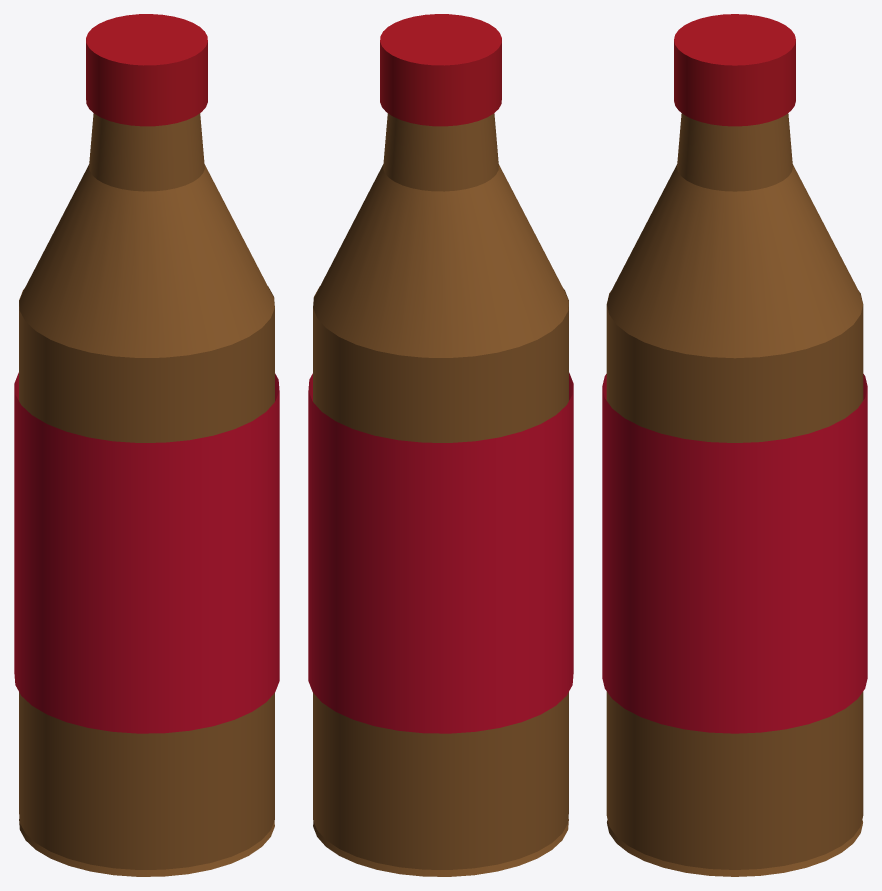
File: botella.glb
The picture shows the model from 3 angles, left to right: view 1: azimuth 30°, elevation 25°; view 2: azimuth 150°, elevation 25°; view 3: azimuth 270°, elevation 25°; orthographic projection.
Bounding box in the file's own units: 0.0953 × 0.31 × 0.0953.
